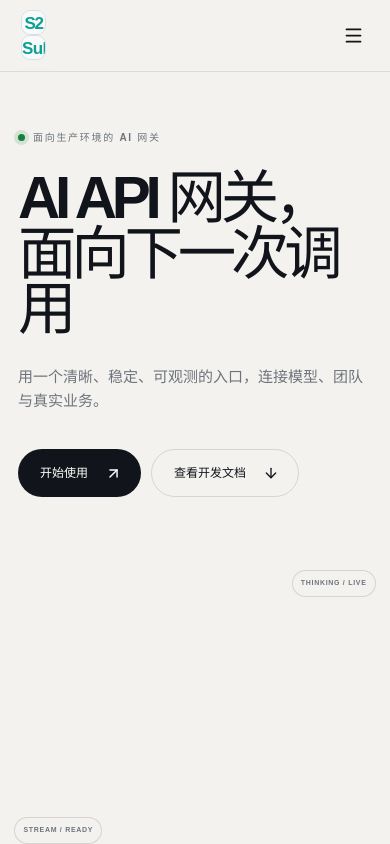
it: HomepagePage › renders configured links in order in embedded mode and closes the mobile menu
Click the button named "打开菜单". click: (354, 36)
box: [335,17,372,54]
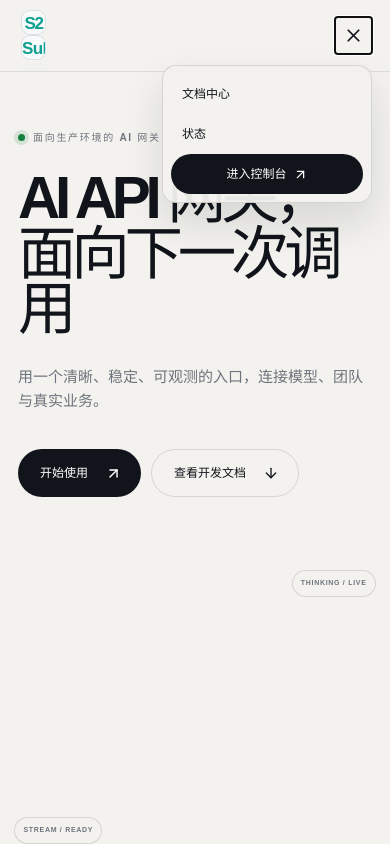
Click the link "状态". click: (194, 134)
box: [182,127,206,141]
(page scrolled)
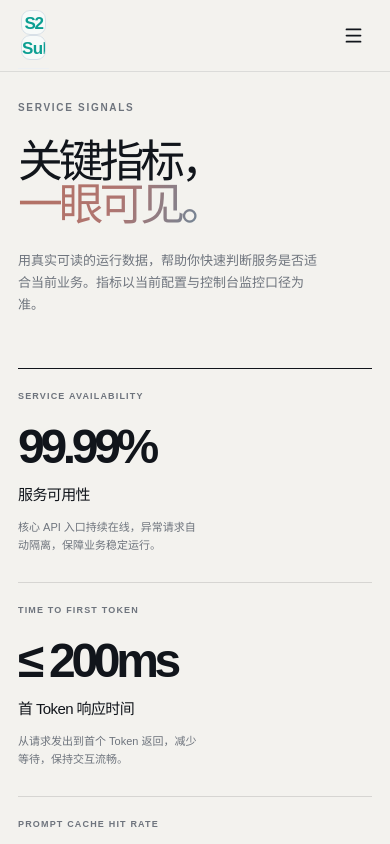
Result: the button named "打开菜单" is shown at [335,17,372,54]
